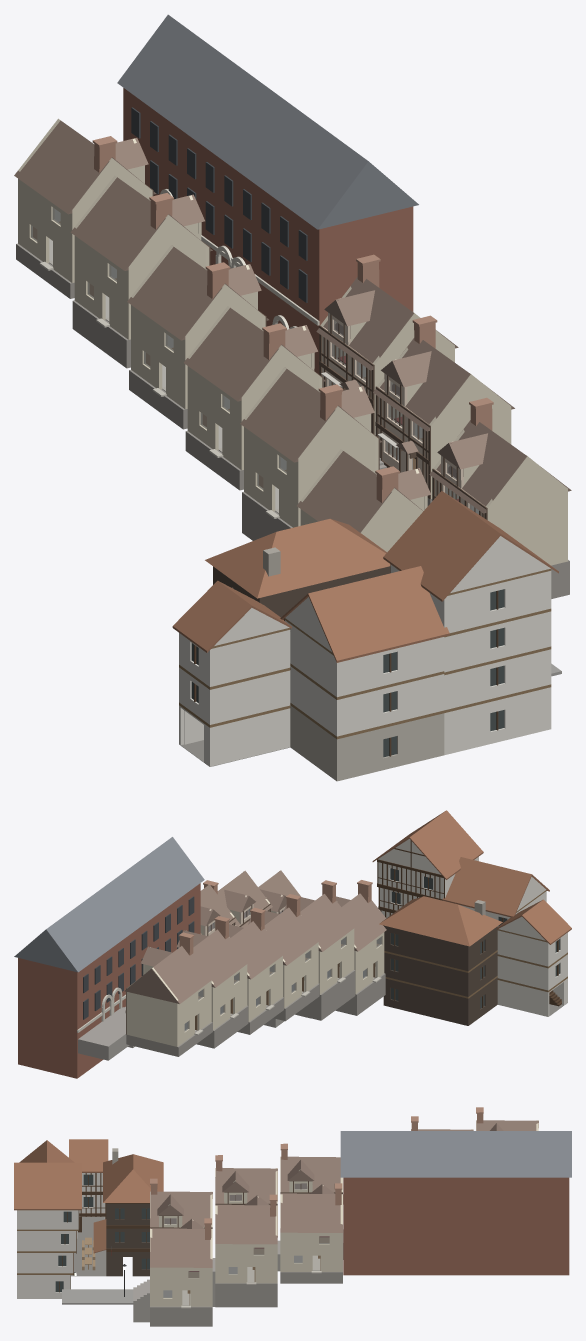
File: christmas-steps-foot.glb
The picture shows the model from 3 angles, top to bottom: view 1: azimuth 30°, elevation 25°; view 2: azimuth 150°, elevation 25°; view 3: azimuth 270°, elevation 25°; orthographic projection. The views are drawn at different scales.
Visible parts, largest first — view 1: alcove-bench-east; view 2: alcove-bench-east; view 3: alcove-bench-east.
Part boxes in pixels (<box>): alcove-bench-east: <box>14,14,571,781</box>; alcove-bench-east: <box>14,810,571,1078</box>; alcove-bench-east: <box>14,1107,571,1326</box>.
Size of the model in its own units: 33.43 by 25.3 by 62.47.
